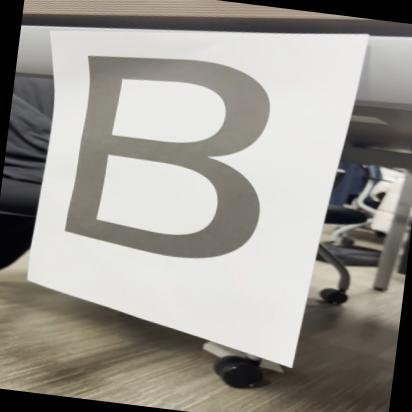seat: (41, 36, 292, 280)
